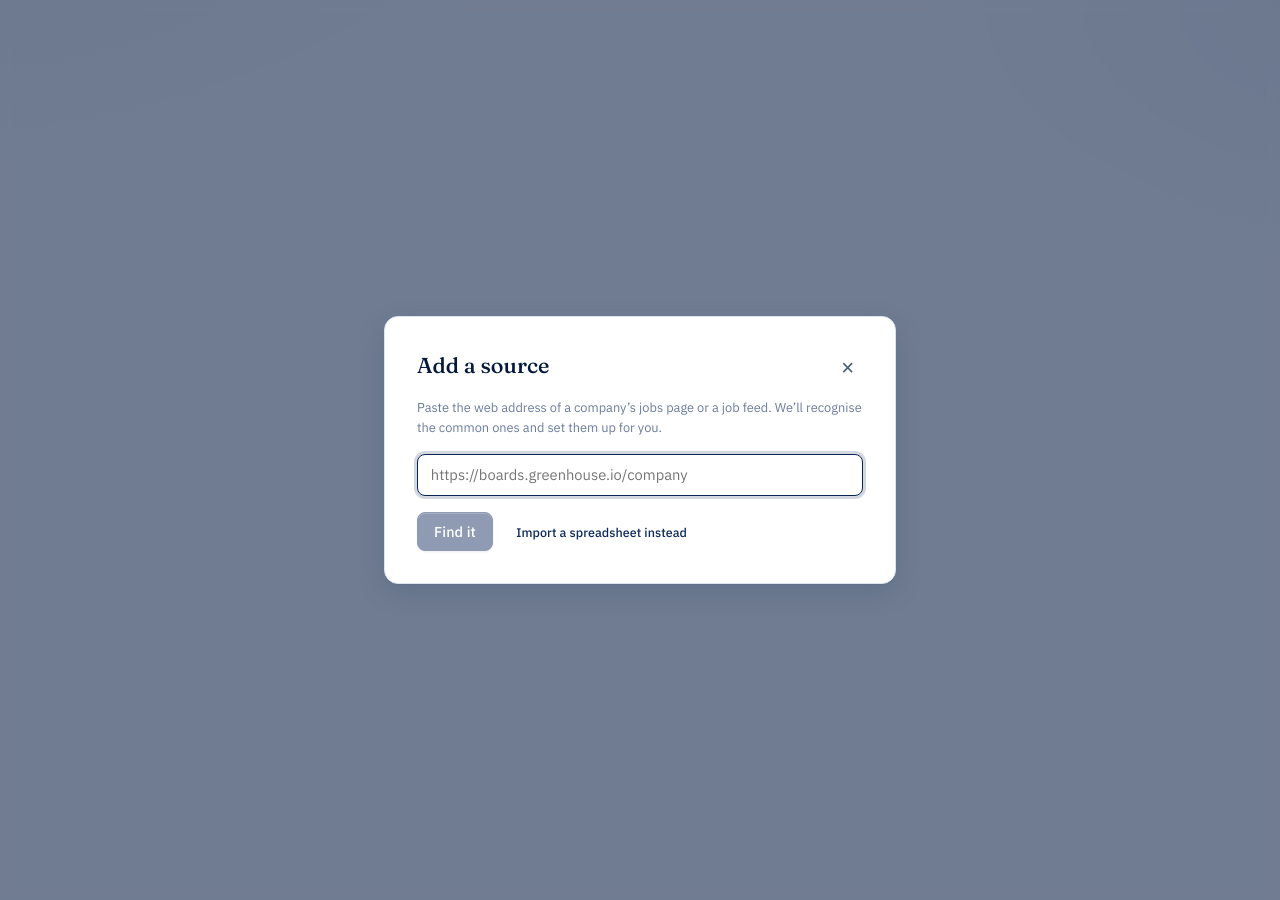
Scenario: AddSourceModal › fetches the jobs as soon as a candidate is recognised
Type "https://ejqi.fa.ocs.oraclecloud.eu/hcmUI/CandidateExperience/en/sites/CX_1001/jobs" into the field with placeholder "https://boards.greenhouse.io/company".
click(640, 475); type("https://ejqi.fa.ocs.oraclecloud.eu/hcmUI/CandidateExperience/en/sites/CX_1001/jobs")  # box [417,454,863,496]
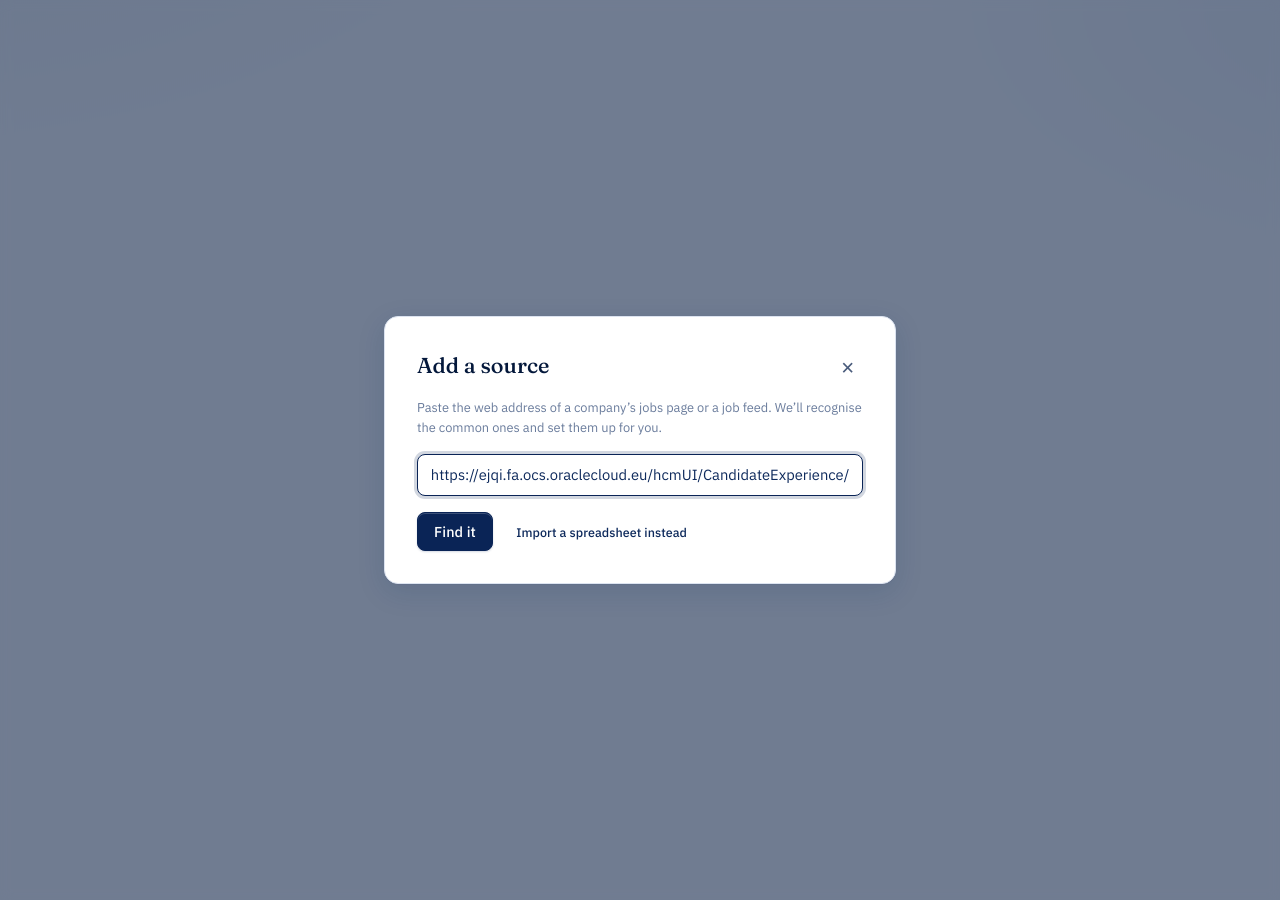
Click the button "Find it".
click(455, 532)  # box [417,512,493,551]
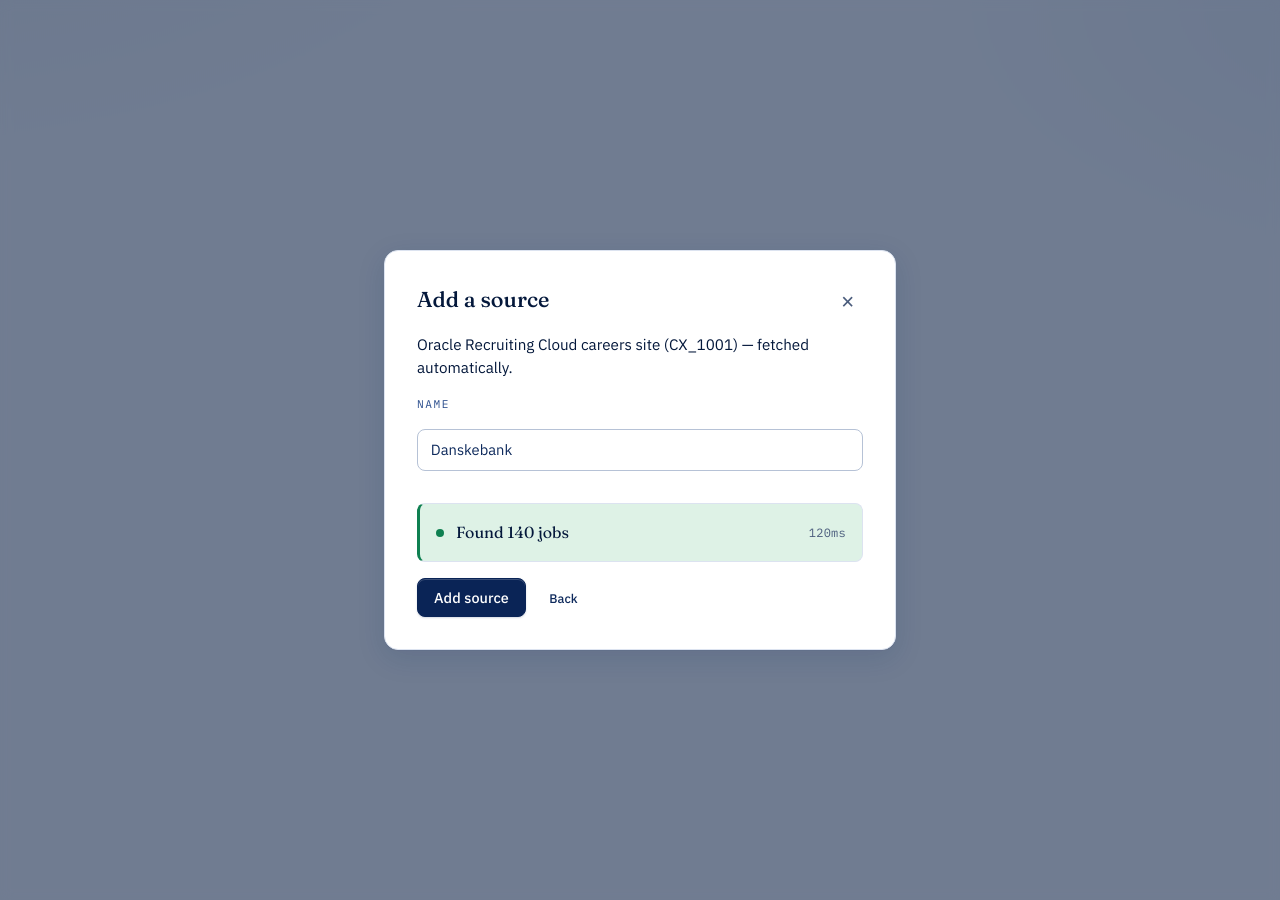
Expected: the text "Found 140 jobs" is shown, [456,520,569,545]
